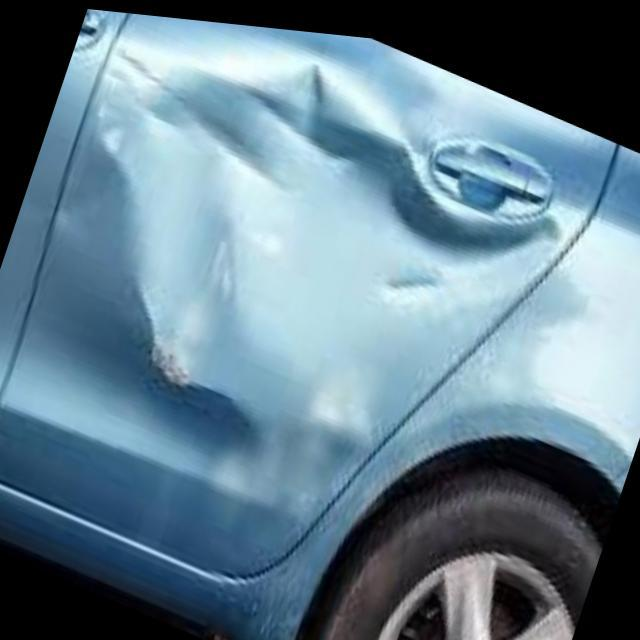dent: (92, 28, 596, 478)
